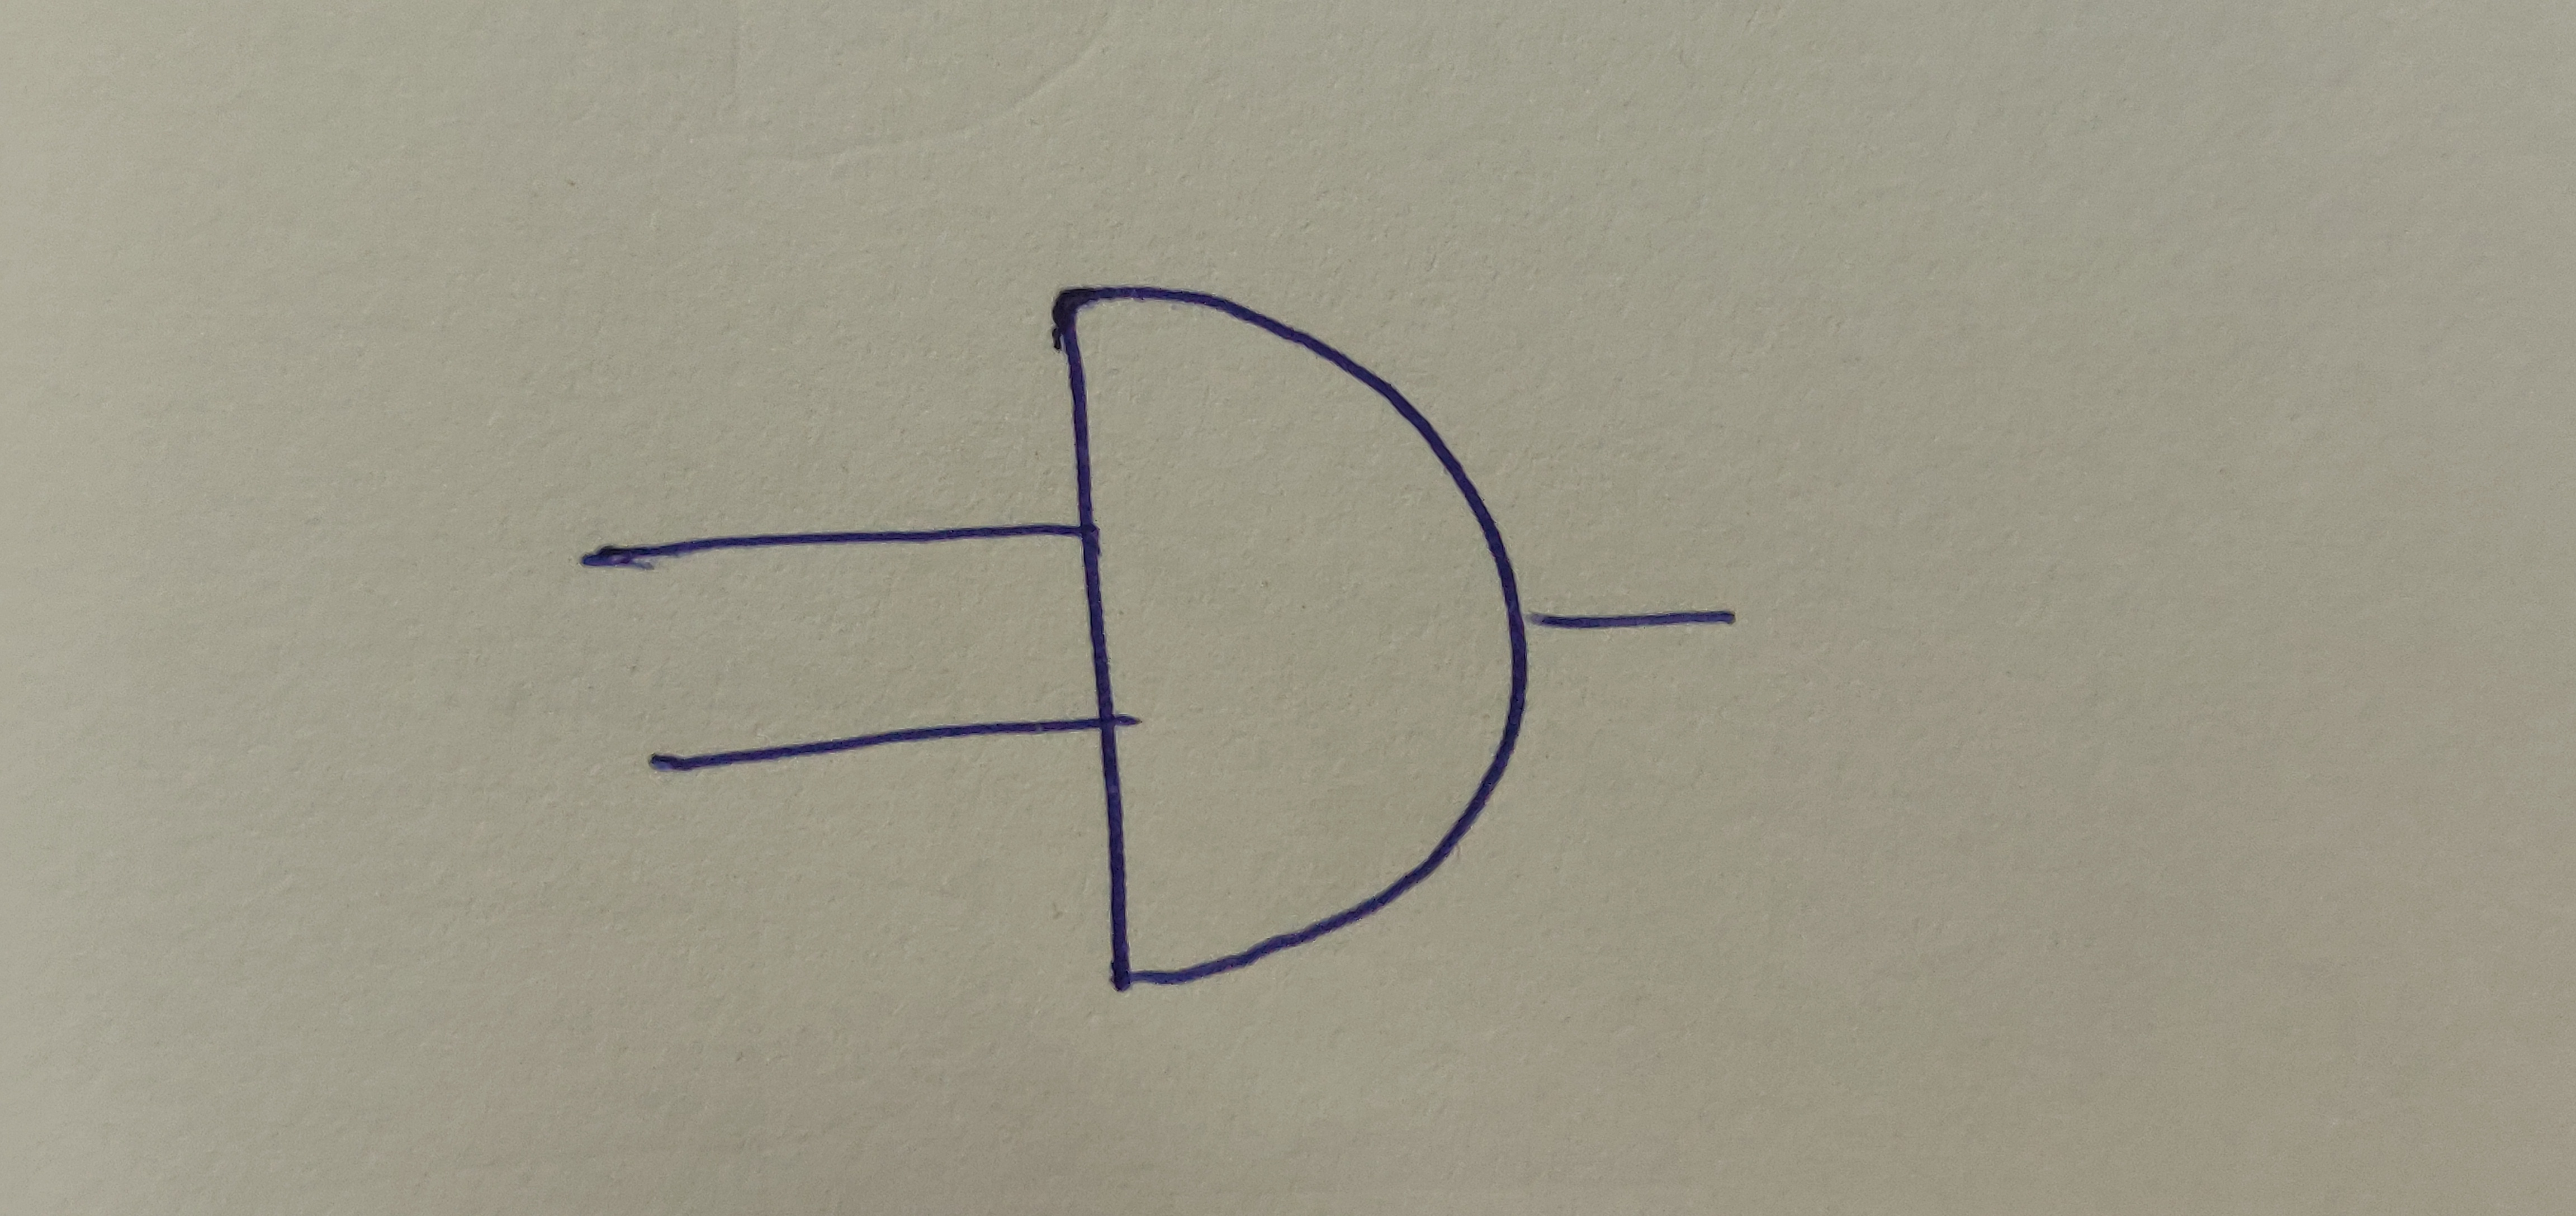and: (1043, 281, 1534, 991)
